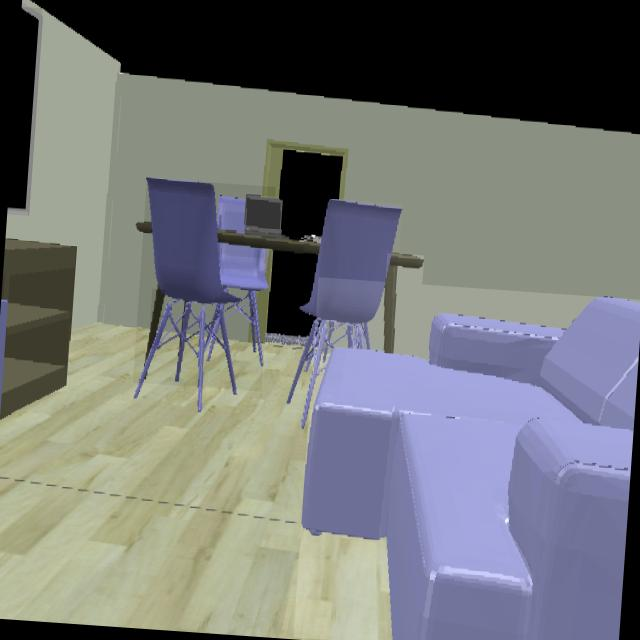chair: (137, 178, 269, 389), (299, 199, 402, 395)
laptop: (245, 195, 282, 237)
monitor: (7, 6, 39, 211)
shelf: (1, 239, 77, 414)
sofa: (301, 297, 640, 640)
table: (383, 253, 423, 353), (217, 230, 319, 254), (148, 288, 164, 348), (136, 222, 150, 233)
